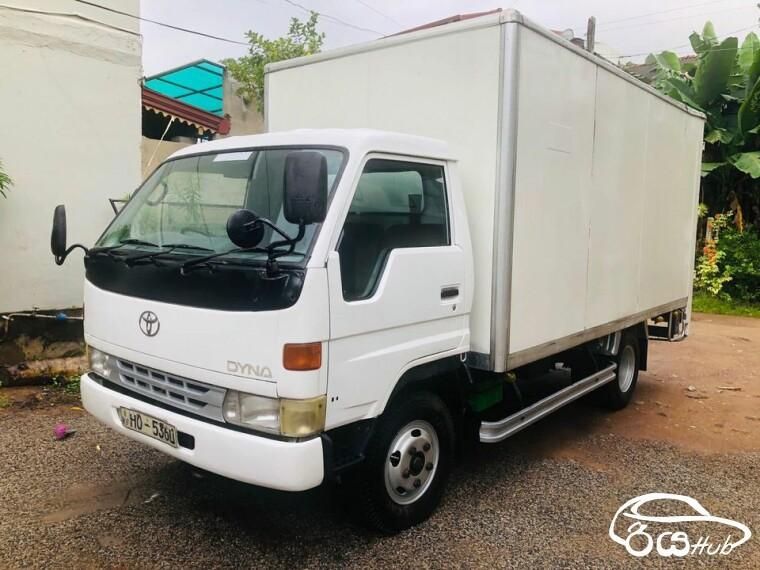truck: (50, 8, 705, 531)
